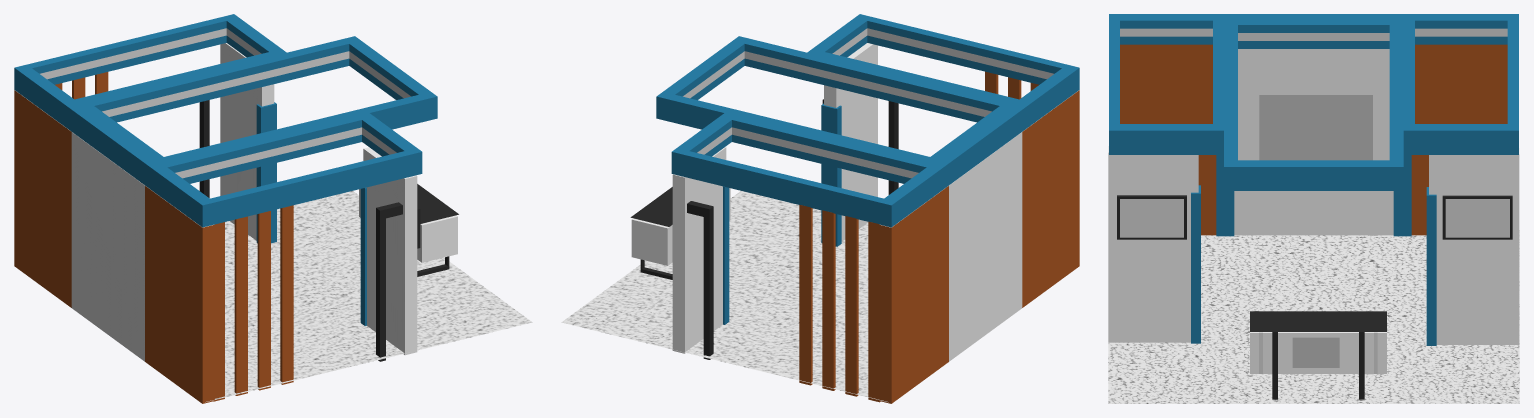
File: Booth1.fbx
3 views of the same model, side by side, from view 1: azimuth 30°, elevation 25°; view 2: azimuth 150°, elevation 25°; view 3: azimuth 270°, elevation 25° (orthographic). The views are drawn at different scales.
Visible parts, largest first — view 1: Cube.023, Plane, Cube.027, Cube.035, Cube.029, Cube.024, Cube.036; view 2: Cube.023, Plane, Cube.036, Cube.029, Cube.027, Cube.024, Cube.035; view 3: Cube.023, Plane, Cube.029, Cube.027, Cube.024, LogoCubeStudioFinalOriginal.002, Cube.028, Cube.026, LogoCubeStudioFinalOriginal.003.
Part boxes in pixels (left/top/right/bottom): Cube.023: left=14, top=14, right=437, bottom=403; Plane: left=205, top=191, right=532, bottom=402; Cube.027: left=360, top=147, right=417, bottom=361; Cube.035: left=213, top=205, right=293, bottom=401; Cube.029: left=199, top=43, right=276, bottom=243; Cube.024: left=359, top=184, right=458, bottom=276; Cube.036: left=55, top=72, right=108, bottom=99; Cube.023: left=656, top=14, right=1079, bottom=403; Plane: left=561, top=191, right=888, bottom=402; Cube.036: left=799, top=204, right=880, bottom=402; Cube.029: left=672, top=147, right=729, bottom=359; Cube.027: left=821, top=43, right=898, bottom=246; Cube.024: left=630, top=187, right=730, bottom=279; Cube.035: left=985, top=71, right=1038, bottom=99; Cube.023: left=1109, top=14, right=1518, bottom=236; Plane: left=1108, top=230, right=1519, bottom=403; Cube.029: left=1426, top=148, right=1519, bottom=345; Cube.027: left=1108, top=146, right=1200, bottom=343; Cube.024: left=1250, top=311, right=1386, bottom=399; LogoCubeStudioFinalOriginal.002: left=1259, top=95, right=1372, bottom=160; Cube.028: left=1442, top=195, right=1512, bottom=239; Cube.026: left=1117, top=195, right=1186, bottom=239; LogoCubeStudioFinalOriginal.003: left=1292, top=337, right=1339, bottom=367.
Bounding box in the file's own units: 604 × 353 × 600.
